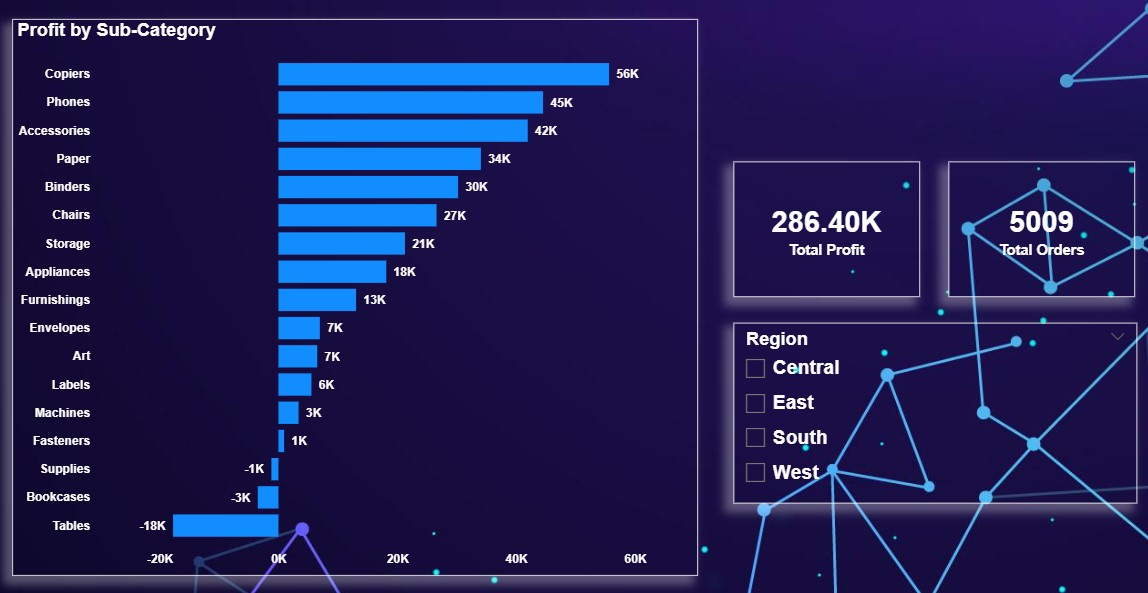

The page's visual inventory and layout, read from the dashboard file:
{"tool":"powerbi","page":{"name":"Page 3","canvas":[1280,720],"ordinal":2},"visuals":[{"type":"clusteredBarChart","title":"Profit by Sub-Category","fields":{"Category":["Products.Sub-Category"],"Y":["Sum(Sales.Profit)"]},"box":[28.6,54.3,752.9,611.4],"z":0},{"type":"slicer","fields":{"Values":["Location.Region"]},"box":[820,388.6,442.9,198.6],"z":1000},{"type":"card","fields":{"Values":["DAX.Total Profit"]},"box":[820,211.4,205,148.6],"z":2000},{"type":"card","fields":{"Values":["DAX.Total Orders"]},"box":[1057.1,211.4,205,148.6],"z":2001}]}

Visuals, with their boxes on the page's 1280x720 design canvas (x1, y1, x2, y2). These are canvas units, not pixel positions in the 1148x593 screenshot, which may show the page scaled, cropped or inside an application window:
"Profit by Sub-Category" clusteredBarChart: (left=29, top=54, right=782, bottom=666)
slicer - Location.Region: (left=820, top=389, right=1263, bottom=587)
card - DAX.Total Profit: (left=820, top=211, right=1025, bottom=360)
card - DAX.Total Orders: (left=1057, top=211, right=1262, bottom=360)
